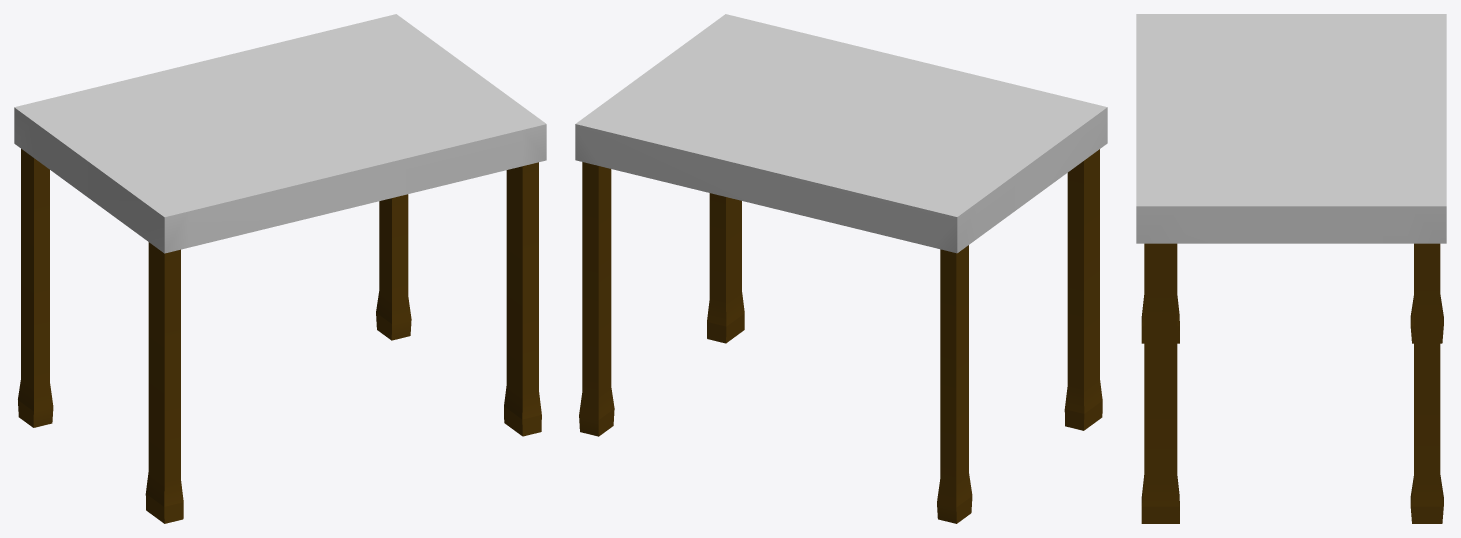
Rendered from Table(1).fbx.
3 renders of one model, left to right at view 1: azimuth 30°, elevation 25°; view 2: azimuth 150°, elevation 25°; view 3: azimuth 270°, elevation 25°, orthographic. The views are drawn at different scales.
Visible parts, largest first — view 1: Table; view 2: Table; view 3: Table.
Part boxes in pixels (x1=…): Table: x1=14, y1=14, x2=546, y2=523; Table: x1=575, y1=14, x2=1107, y2=523; Table: x1=1136, y1=14, x2=1446, y2=523.
Size of the model in its own units: 1.26 by 0.9774 by 0.8618.
